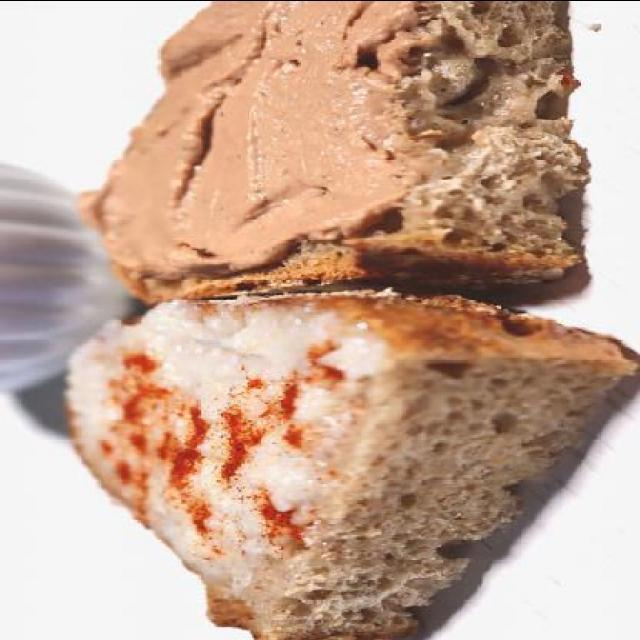Spread: (86, 0, 447, 276)
